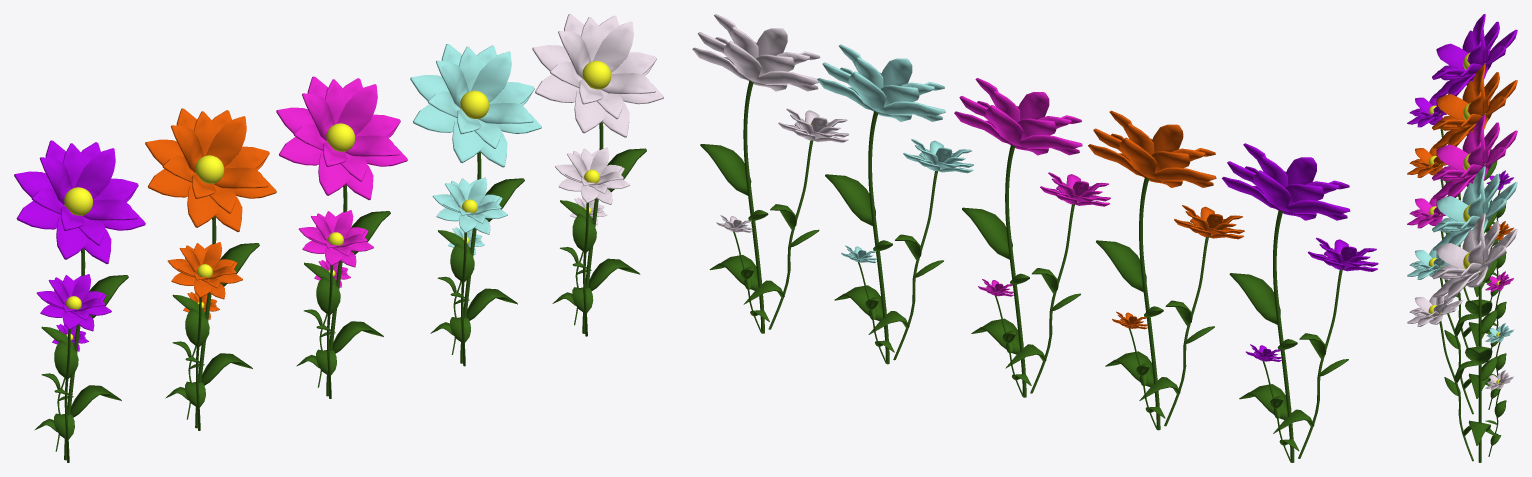
Rendered from set flowers.glb.
3 renders of one model, left to right at view 1: azimuth 30°, elevation 25°; view 2: azimuth 150°, elevation 25°; view 3: azimuth 270°, elevation 25°, orthographic. The views are drawn at different scales.
Visible parts, largest first — view 1: Flower, Plane.001, Flower.002, Plane.012, Flower.001; view 2: Flower, Plane.012, Flower.002, Plane.001, Flower.001; view 3: Flower, Plane.001, Plane.012, Flower.001, Flower.002.
Part boxes in pixels (bbox=[...]): Flower: bbox=[532, 14, 663, 336]; Plane.001: bbox=[410, 44, 541, 366]; Flower.002: bbox=[14, 140, 145, 462]; Plane.012: bbox=[276, 76, 407, 398]; Flower.001: bbox=[145, 108, 276, 430]; Flower: bbox=[692, 14, 848, 333]; Plane.012: bbox=[954, 78, 1110, 397]; Flower.002: bbox=[1222, 143, 1378, 462]; Plane.001: bbox=[817, 44, 973, 364]; Flower.001: bbox=[1088, 110, 1244, 430]; Flower: bbox=[1407, 213, 1517, 462]; Plane.001: bbox=[1407, 166, 1517, 414]; Plane.012: bbox=[1407, 115, 1517, 361]; Flower.001: bbox=[1407, 64, 1517, 301]; Flower.002: bbox=[1407, 14, 1517, 249].
Size of the model in its own units: 13.24 by 6.01 by 2.5.
